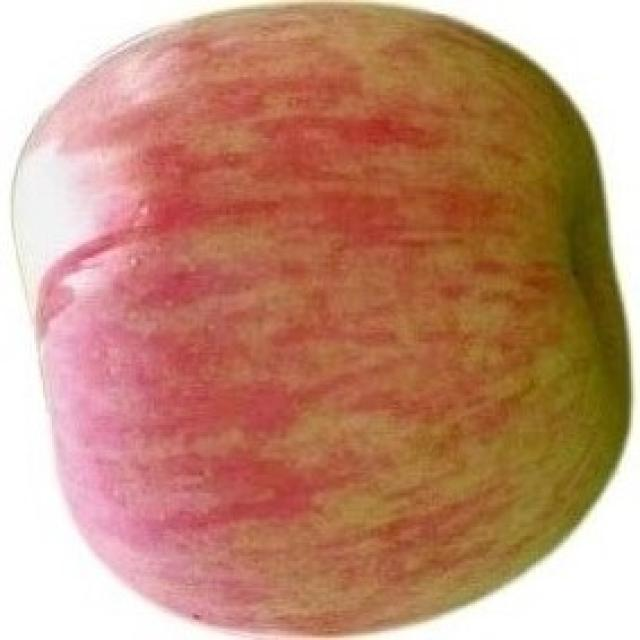75-_ripeness: (14, 5, 629, 630)
